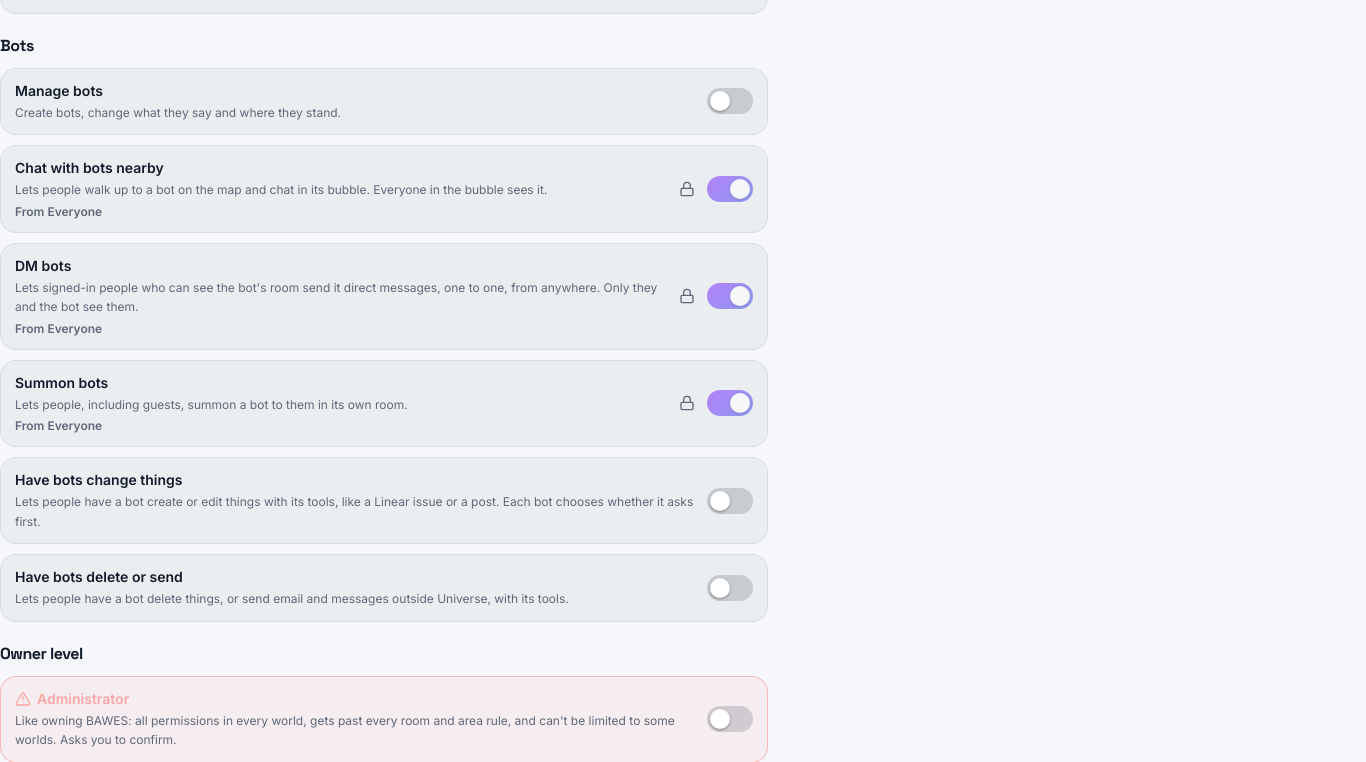
Test case: a role page › asks before switching Administrator on
(page scrolled)
Expected: the heading "Owner level" is shown, [0,643,83,664]
What coordinates should you click on to do the following:
click the 7th switch named "Administrator"
I would click on:
 (730, 719)
Its box is [707,706,753,732].
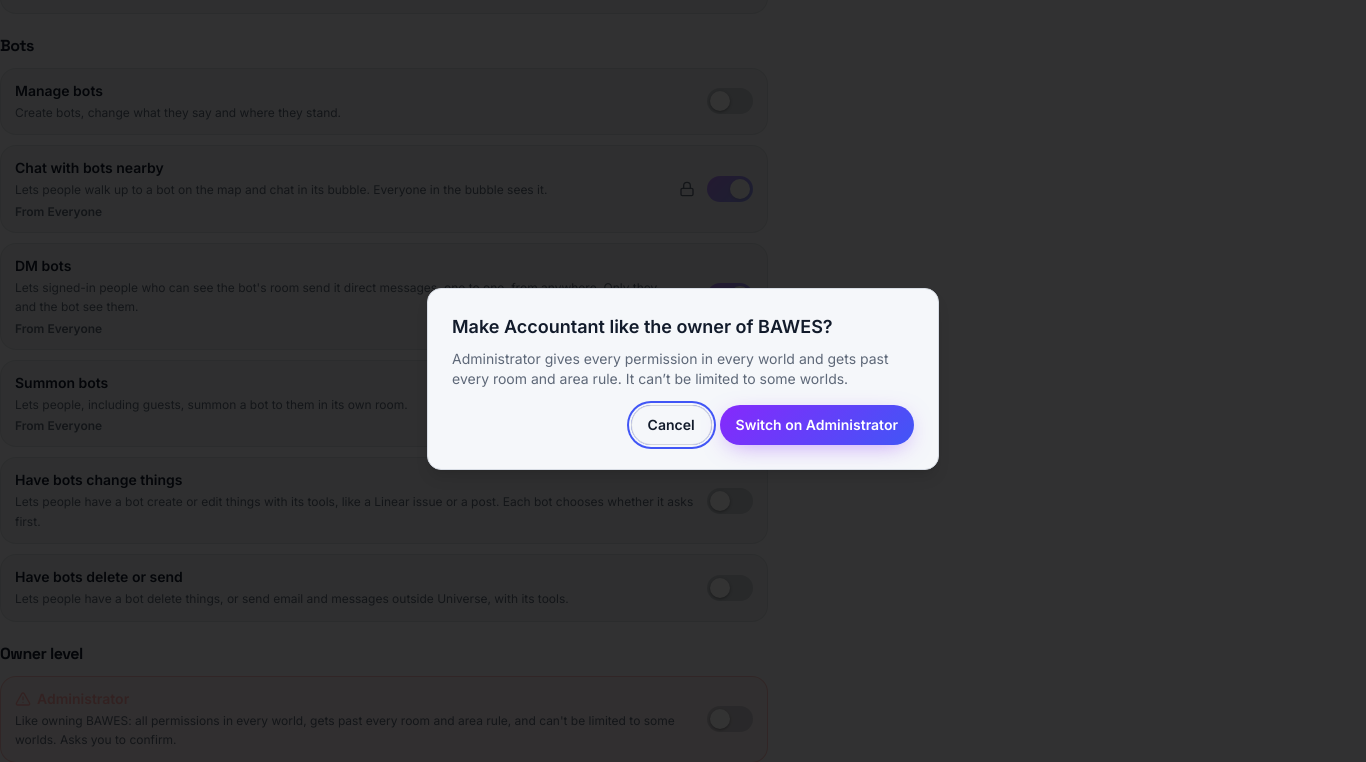
Now the heading "Make Accountant like the owner of BAWES?" is shown, box [452,316,833,337]
What coordinates should you click on to do the following:
click the button "Switch on Administrator"
I would click on:
 (817, 425)
Its box is [720,405,914,445].
(page scrolled)
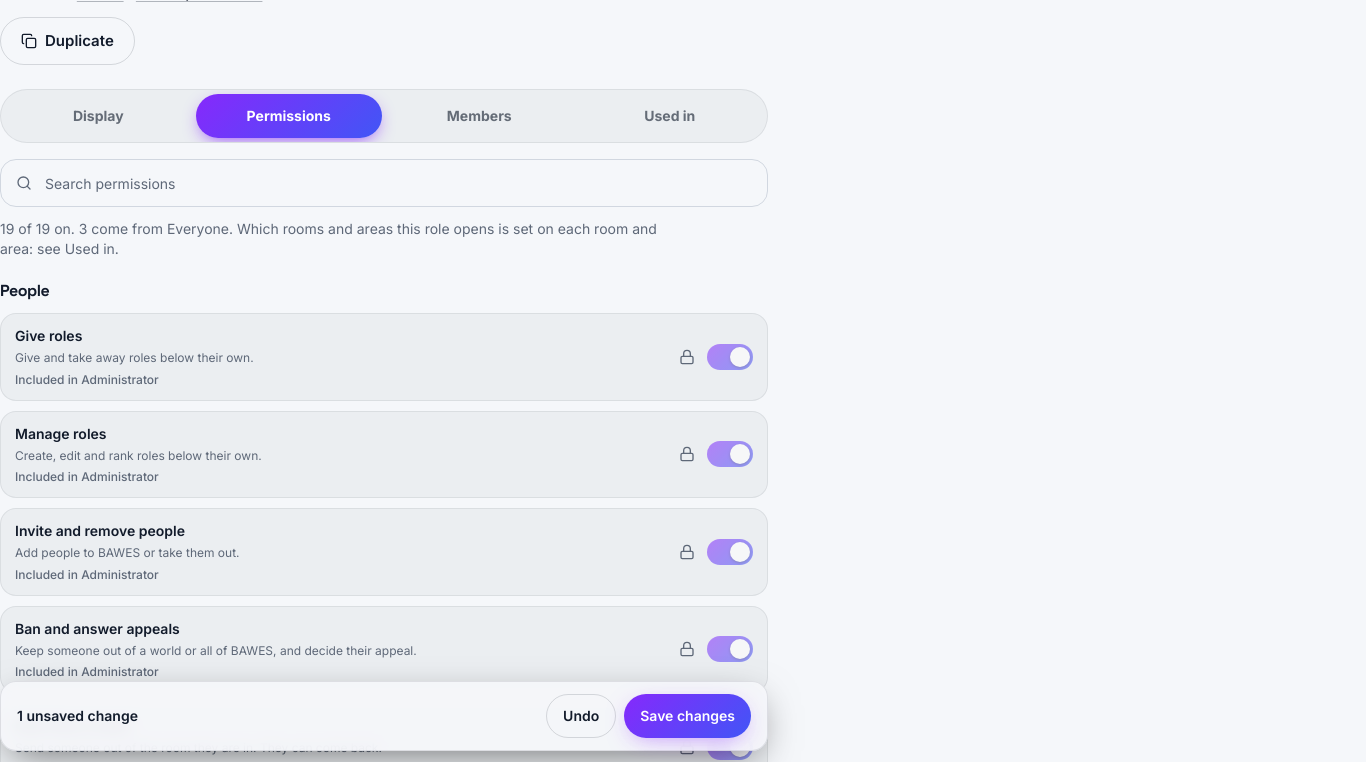
Now the text "Included in Administrator" below "Give roles" is shown, box [15,372,159,387]
